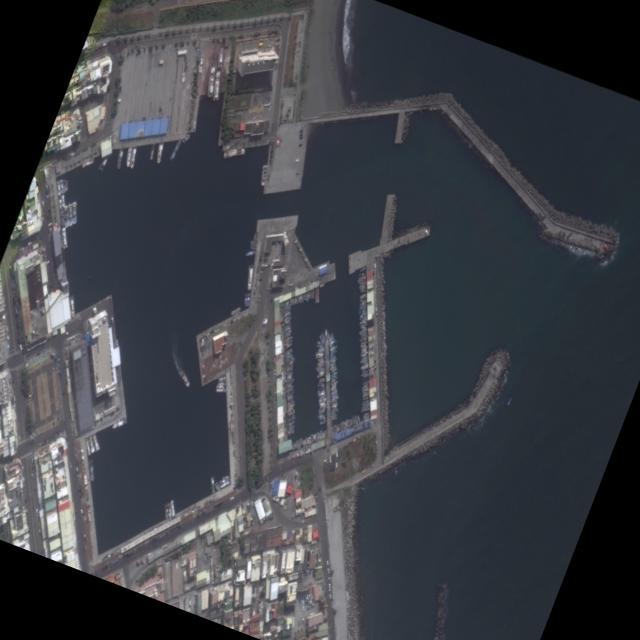ship: (169, 139, 181, 160), (207, 66, 215, 96), (212, 70, 220, 100), (98, 152, 111, 170), (223, 147, 245, 157), (111, 416, 127, 429), (246, 263, 253, 289), (179, 368, 189, 386), (115, 147, 123, 168), (68, 294, 75, 317), (129, 145, 136, 168), (91, 432, 99, 451), (156, 141, 163, 162), (125, 146, 132, 166), (61, 225, 67, 248), (88, 458, 94, 481), (260, 165, 267, 184), (148, 142, 155, 160), (67, 202, 72, 226), (217, 46, 223, 66), (63, 204, 68, 227), (88, 434, 94, 452), (209, 475, 215, 493), (169, 499, 175, 517), (81, 158, 93, 167), (72, 200, 76, 223), (59, 207, 64, 225), (85, 436, 90, 454), (230, 305, 240, 314), (219, 480, 230, 488), (218, 476, 230, 483), (245, 292, 250, 306), (164, 502, 168, 518), (56, 179, 60, 195), (245, 249, 254, 256), (167, 501, 171, 516), (61, 178, 65, 193), (213, 482, 219, 491), (60, 193, 64, 206), (58, 194, 61, 209), (215, 387, 226, 391), (243, 292, 246, 306), (215, 481, 220, 489), (215, 383, 225, 387), (222, 474, 229, 479), (217, 375, 224, 380), (64, 179, 67, 190), (217, 378, 225, 382), (253, 240, 256, 249), (217, 381, 225, 384), (251, 240, 253, 249), (253, 232, 255, 240), (254, 232, 256, 240), (249, 241, 251, 248)
